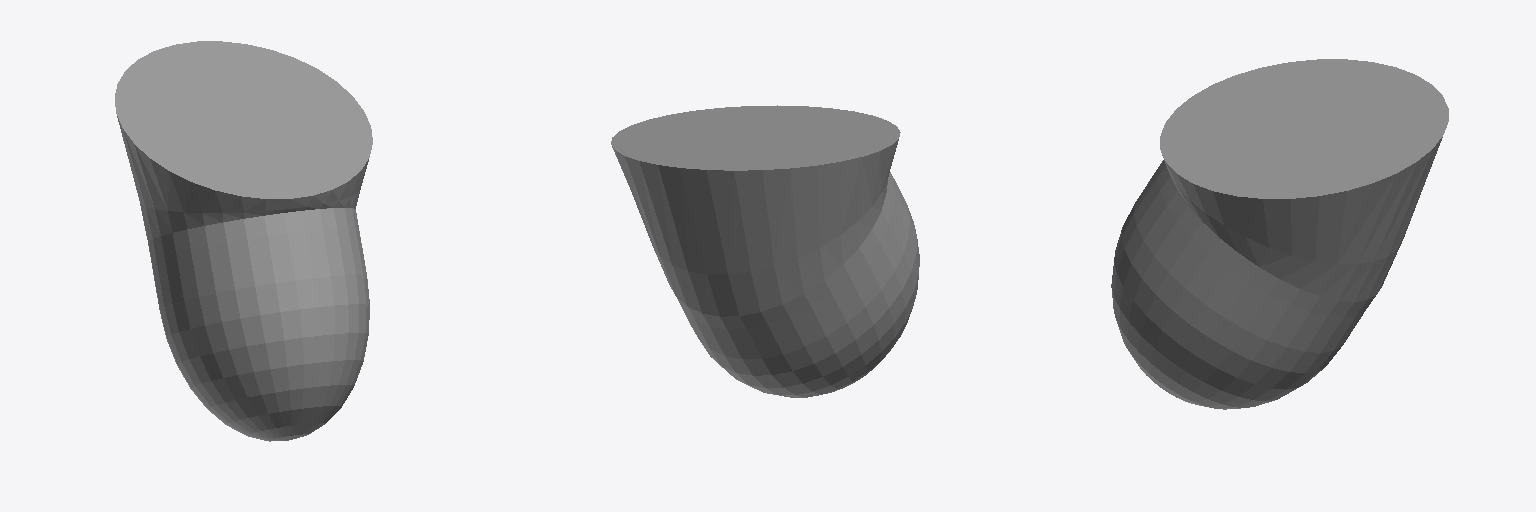
File: RBankle.obj
The picture shows the model from 3 angles: view 1: azimuth 30°, elevation 25°; view 2: azimuth 150°, elevation 25°; view 3: azimuth 270°, elevation 25°; orthographic projection.
Parts seen in each view (by area): view 1: 後ろ足.005; view 2: 後ろ足.005; view 3: 後ろ足.005.
Boxes of the visible parts, x1=… form: 後ろ足.005: x1=115, y1=41, x2=372, y2=441; 後ろ足.005: x1=611, y1=105, x2=919, y2=397; 後ろ足.005: x1=1111, y1=59, x2=1448, y2=409.
Size of the model in its own units: 0.2594 by 0.3208 by 0.3246.